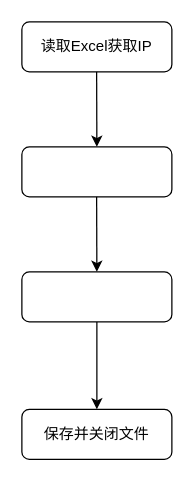
This 194x481 diagram has some shape labels left out. Each missing label, with the centre of its shape:
建立SSH连接执行命令: the point at 96,171
获取执行结果写入Excel: the point at 96,296
